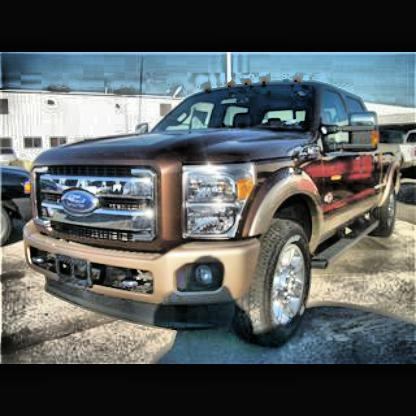Ford F-450 Super Duty Crew Cab 2012: (29, 81, 403, 341)
